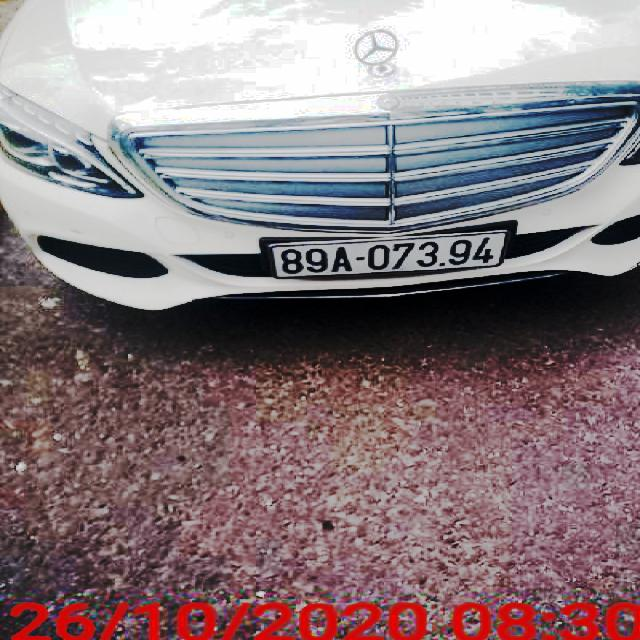license_plate: (271, 228, 507, 278)
